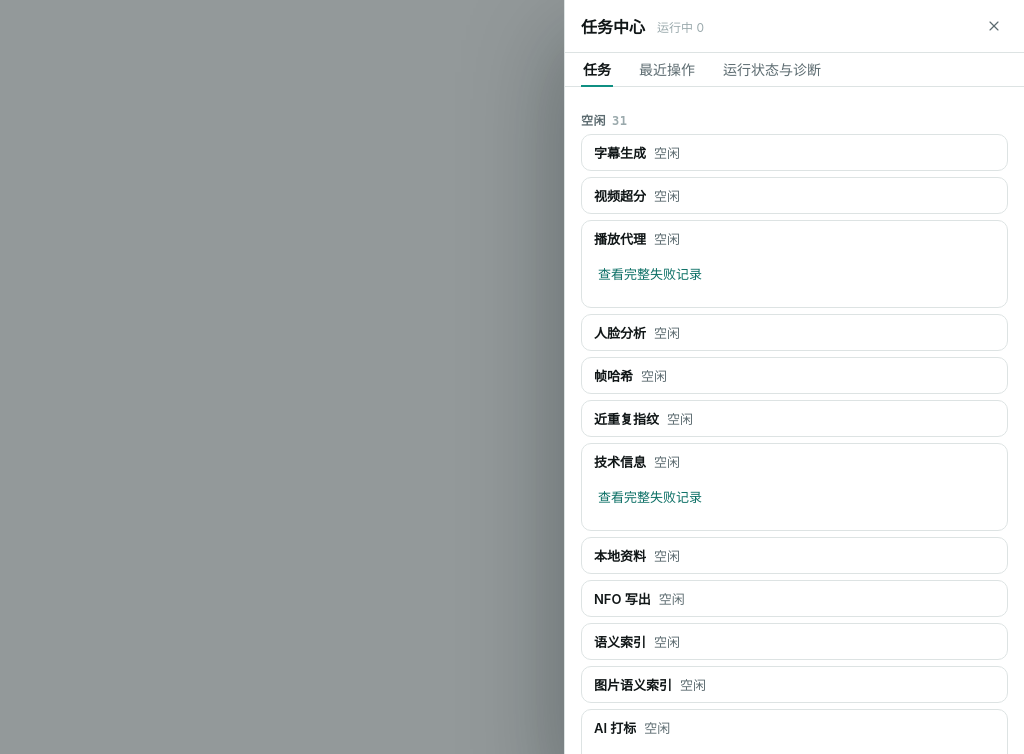
最近操作（D-UD-09） › 没有记录时给空状态，并写明只在内存里、重启后清空
The image size is (1024, 754).
Click the tab with test id "task-center-tab-recent" at (667, 70), box [637,53,697,87]
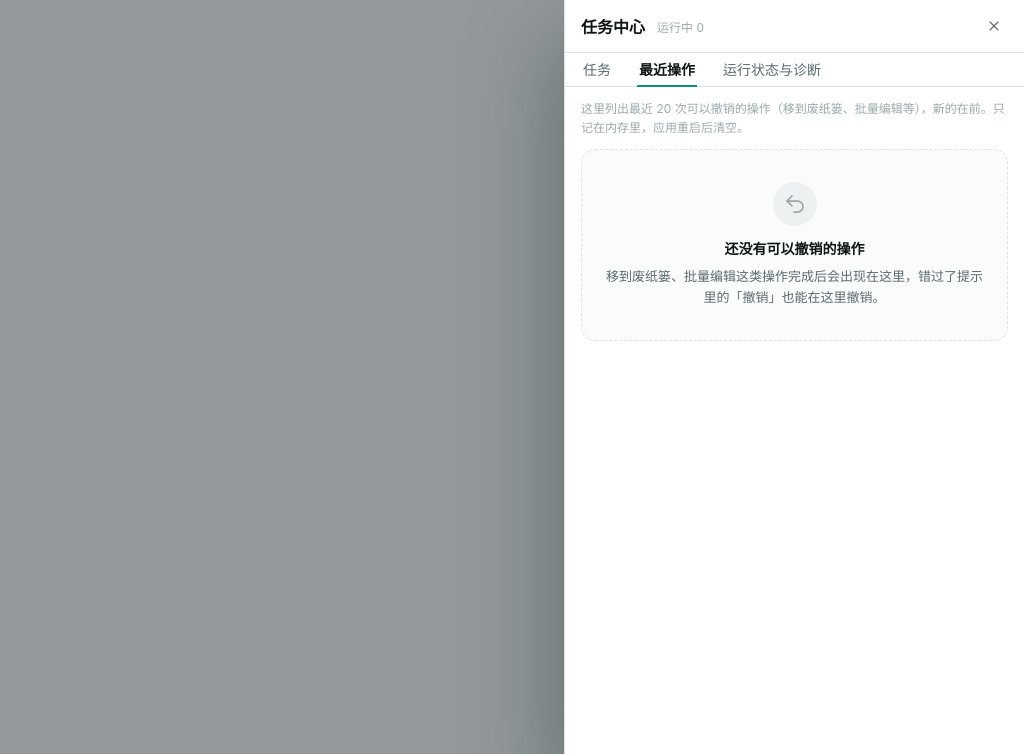
Check: the element with test id "task-center-operations-empty" is shown, box [581,149,1008,341]
Check: the text with test id "task-center-operations-note" shows "应用重启后清空", box [581,101,1005,135]
Check: the text with test id "task-center-operations-note" shows "最近 20 次", box [581,101,1005,135]
